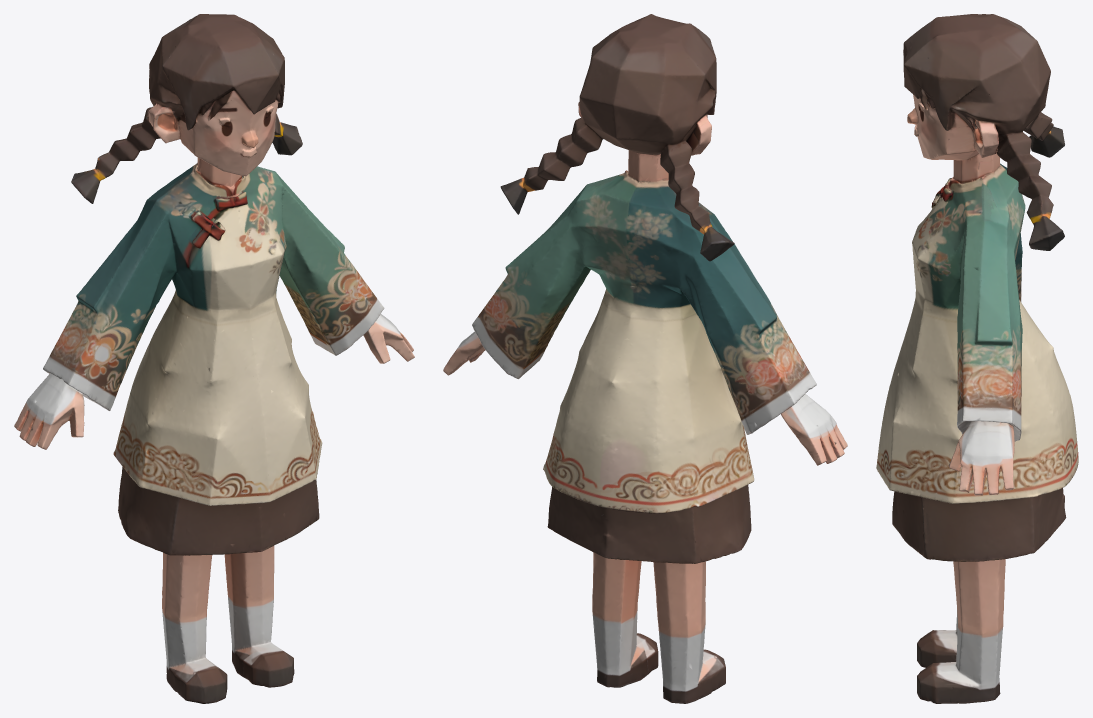
Rendered from Lantern_Festival_Girl_1116135238_texture.fbx.
3 views of the same model, side by side, from view 1: azimuth 30°, elevation 25°; view 2: azimuth 150°, elevation 25°; view 3: azimuth 270°, elevation 25° (orthographic).
Parts seen in each view (by area): view 1: input; view 2: input; view 3: input.
Part boxes in pixels (<box>): input: <box>14,14,414,703</box>; input: <box>443,14,847,703</box>; input: <box>876,14,1078,703</box>.
Size of the model in its own units: 118 by 190 by 53.3.
Materials: 1 (1 with a texture image).
